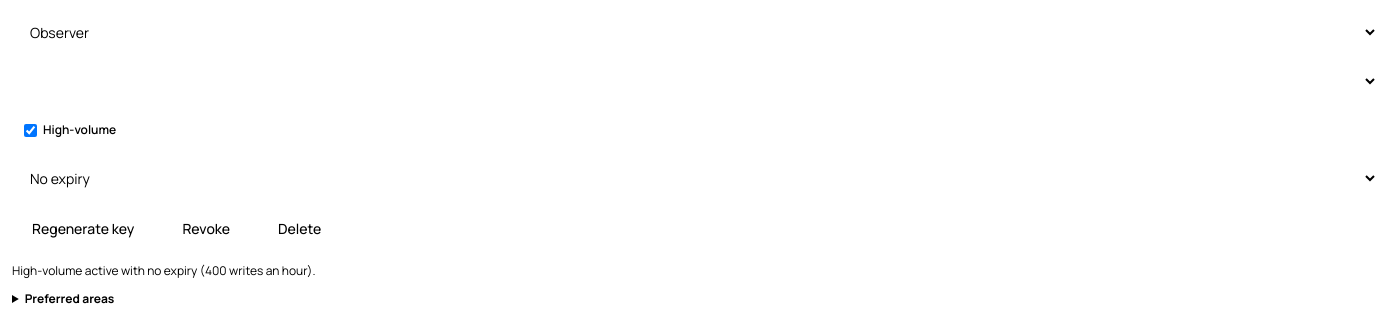
Test: AgentControls high-volume budget (#596) › sends the chosen expiry and shows when the grant ends
Select "2 hours" in the 3rd dropdown named "High-volume expiry for Ada's Claude" at (695, 178), box [12,158,1378,199]
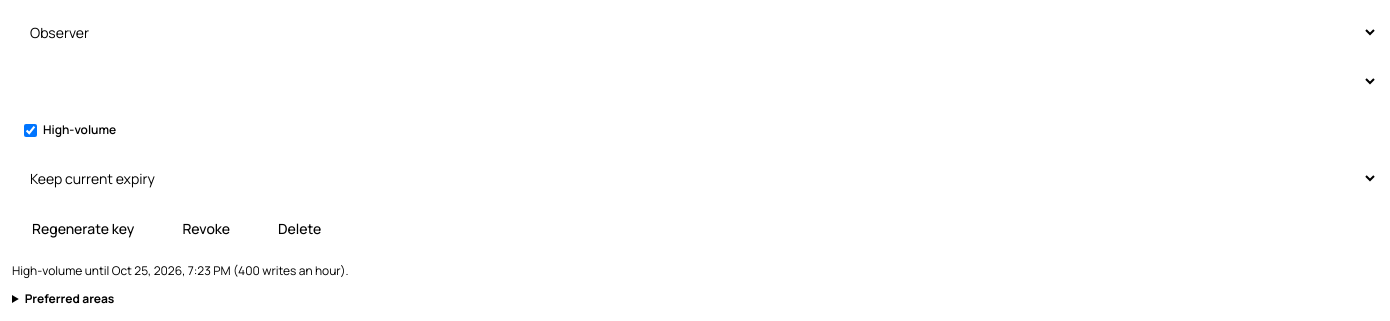
Now the text "High-volume until" is shown, box [12,262,112,279]
